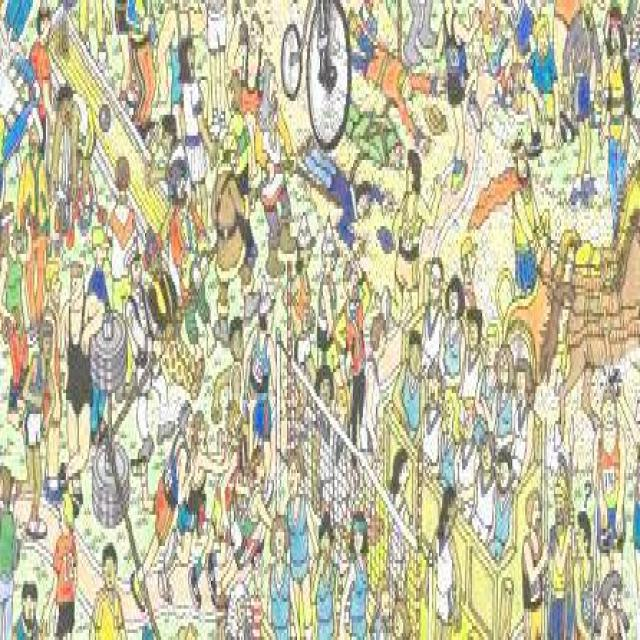waldo: (245, 536, 264, 591)
